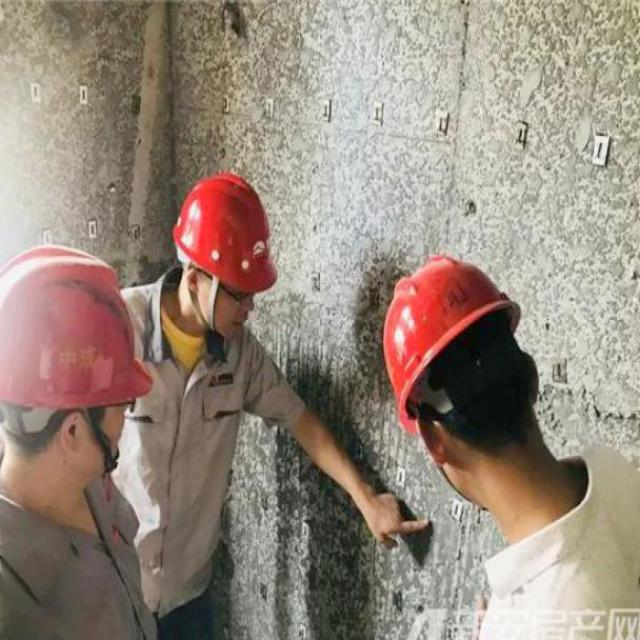helmet: (372, 242, 534, 505), (0, 218, 141, 511), (161, 148, 268, 340)
